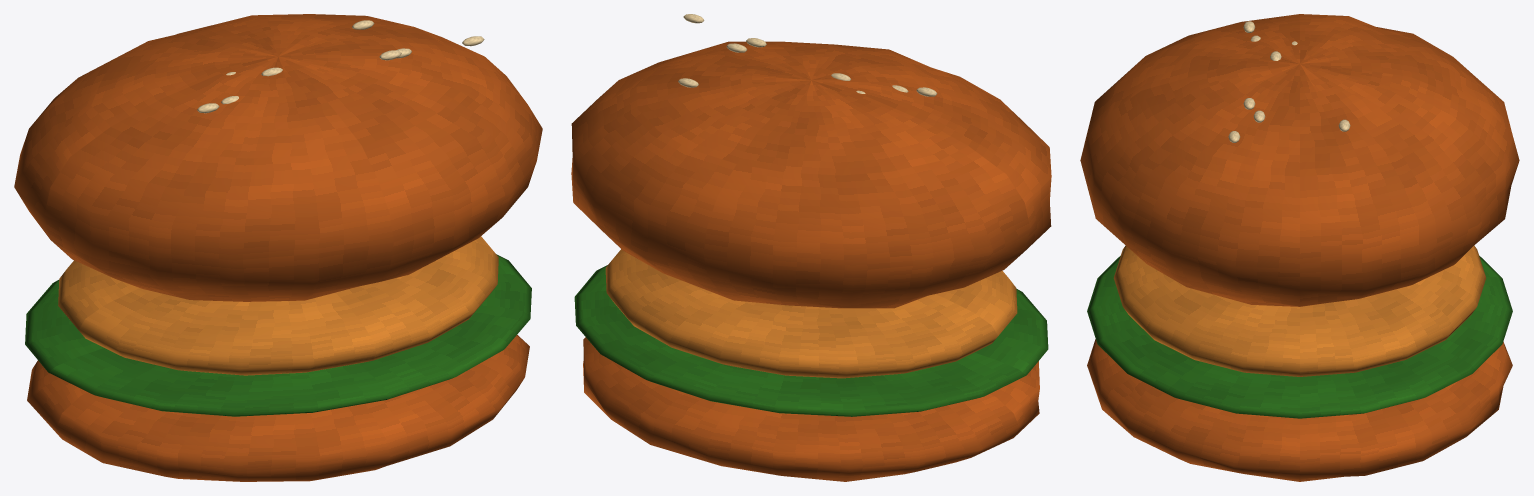
The model's file is bread_fish_burger.glb.
3 renders of one model, left to right at view 1: azimuth 30°, elevation 25°; view 2: azimuth 150°, elevation 25°; view 3: azimuth 270°, elevation 25°, orthographic. The views are drawn at different scales.
Visible parts, largest first — view 1: ふっくらした上のバンズ, 下のバンズ, パティまたは具, シャキシャキレタス; view 2: ふっくらした上のバンズ, 下のバンズ, パティまたは具, シャキシャキレタス; view 3: ふっくらした上のバンズ, パティまたは具, 下のバンズ, シャキシャキレタス.
Part boxes in pixels (x1,y1,x2,y2): ふっくらした上のバンズ: (14, 14, 542, 301); 下のバンズ: (27, 335, 529, 481); パティまたは具: (58, 236, 498, 375); シャキシャキレタス: (25, 254, 531, 416); ふっくらした上のバンズ: (571, 41, 1051, 308); 下のバンズ: (583, 337, 1039, 481); パティまたは具: (605, 249, 1017, 378); シャキシャキレタス: (574, 265, 1048, 416); ふっくらした上のバンズ: (1080, 14, 1519, 306); パティまたは具: (1113, 245, 1486, 376); 下のバンズ: (1087, 339, 1512, 481); シャキシャキレタス: (1087, 255, 1512, 418).
Size of the model in its own units: 0.7731 by 0.5883 by 0.66.
Materials: 4 (4 with a texture image).
